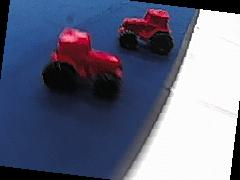Tracktor: (42, 25, 124, 97), (117, 6, 174, 53)
